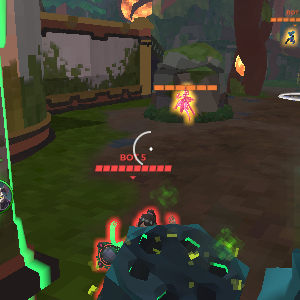model: (176, 76, 199, 124), (281, 25, 295, 47)
